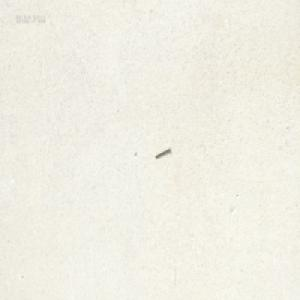Bolt: (154, 144, 170, 157)
